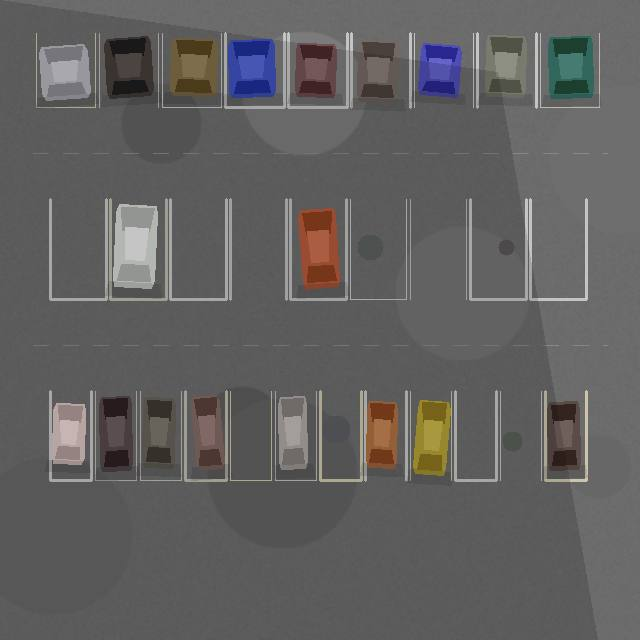space-empty: (50, 199, 106, 299), (170, 199, 226, 299), (230, 199, 286, 299), (350, 199, 406, 299), (410, 199, 466, 299), (470, 199, 526, 299), (530, 199, 586, 299), (230, 391, 271, 480), (320, 391, 361, 480), (455, 391, 496, 480), (500, 391, 541, 480)
space-occupied: (110, 199, 166, 299), (290, 199, 346, 299), (36, 33, 95, 107), (99, 33, 158, 107), (162, 33, 221, 107), (225, 33, 284, 107), (288, 33, 347, 107), (351, 33, 410, 107), (414, 33, 473, 107), (477, 33, 536, 107), (540, 33, 599, 107), (50, 391, 91, 480), (95, 391, 136, 480), (140, 391, 181, 480), (185, 391, 226, 480), (275, 391, 316, 480), (365, 391, 406, 480), (410, 391, 451, 480), (545, 391, 586, 480)
